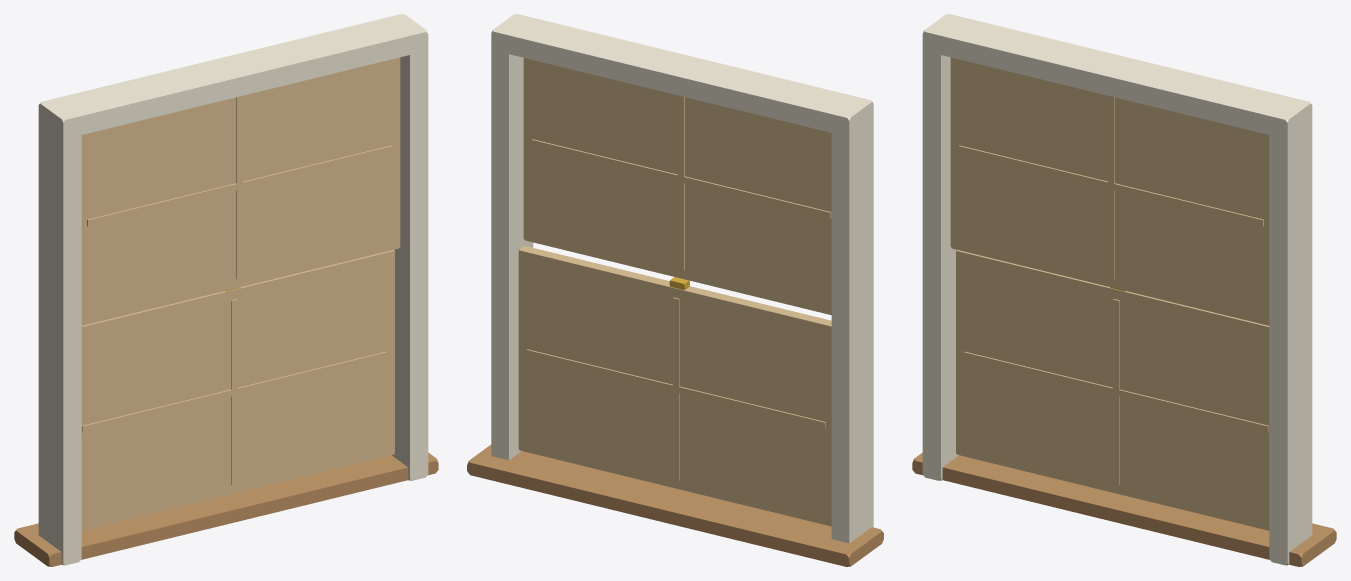
Rendered from Furniture_Window_Standard.glb.
The picture shows the model from 3 angles, left to right: view 1: azimuth 30°, elevation 25°; view 2: azimuth 150°, elevation 25°; view 3: azimuth 330°, elevation 25°; orthographic projection.
Parts seen in each view (by area): view 1: Furniture_Window_Standard; view 2: Furniture_Window_Standard; view 3: Furniture_Window_Standard.
Boxes of the visible parts, x1,y1,x2,y2 form: Furniture_Window_Standard: (14,14,438,566); Furniture_Window_Standard: (467,14,883,566); Furniture_Window_Standard: (912,14,1336,566).
Size of the model in its own units: 1.28 by 1.4 by 0.21.
